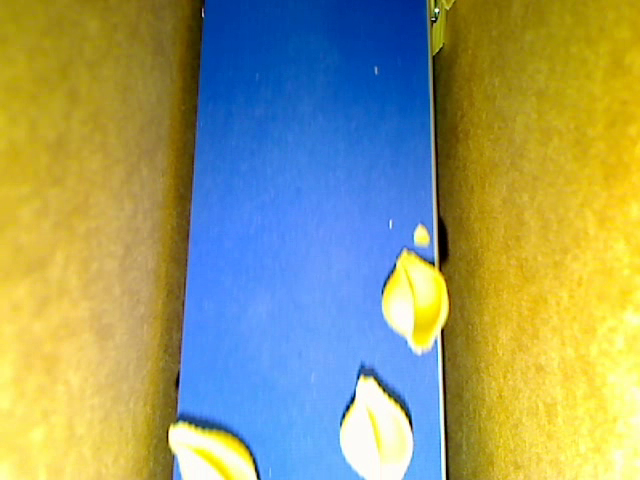penne: (428, 1, 444, 59), (442, 1, 455, 15)
shell: (337, 370, 418, 478), (379, 248, 451, 353), (167, 420, 263, 479)
